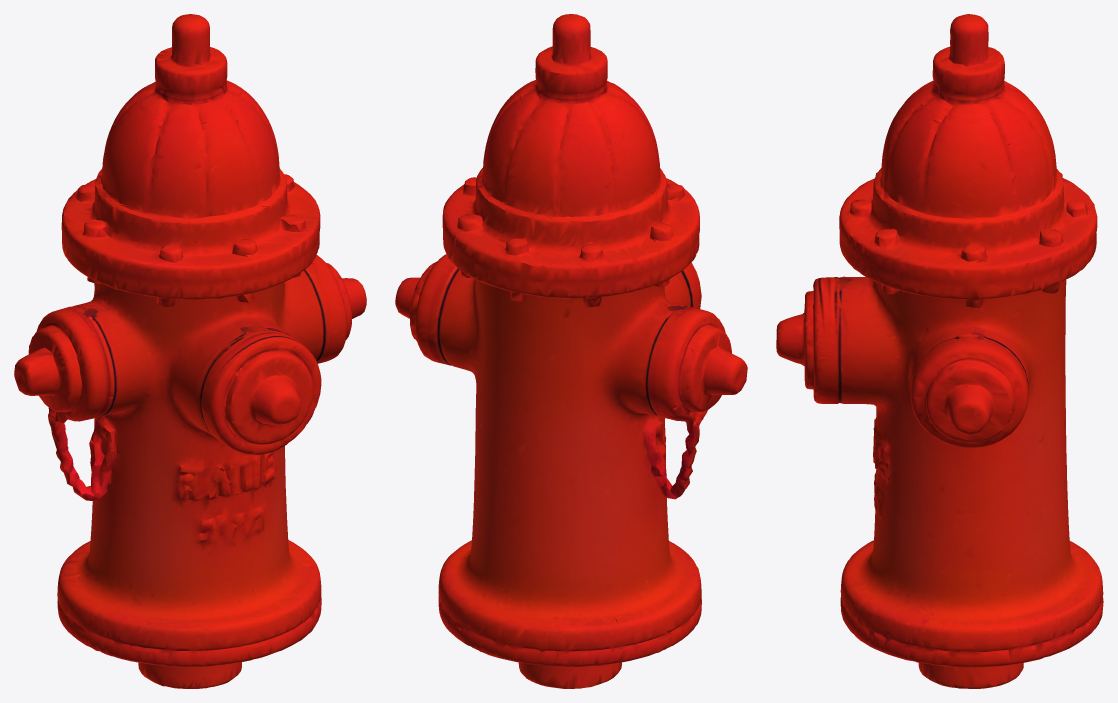
File: fire_hydrant_001_001.glb
The picture shows the model from 3 angles, left to right: view 1: azimuth 30°, elevation 25°; view 2: azimuth 150°, elevation 25°; view 3: azimuth 270°, elevation 25°; orthographic projection.
Visible parts, largest first — view 1: fire_hydrant_001_001_LOD0; view 2: fire_hydrant_001_001_LOD0; view 3: fire_hydrant_001_001_LOD0.
Part boxes in pixels (bbox=[...]): fire_hydrant_001_001_LOD0: bbox=[14, 14, 366, 688]; fire_hydrant_001_001_LOD0: bbox=[395, 14, 747, 688]; fire_hydrant_001_001_LOD0: bbox=[776, 14, 1103, 688].
Size of what is drawn, in the model's own units: 0.4899 by 0.9 by 0.4101.
Materials: 1 (1 with a texture image).
